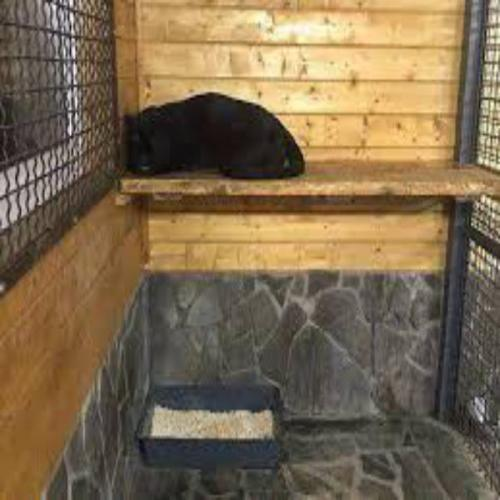panther-endangered: (123, 93, 305, 179)
